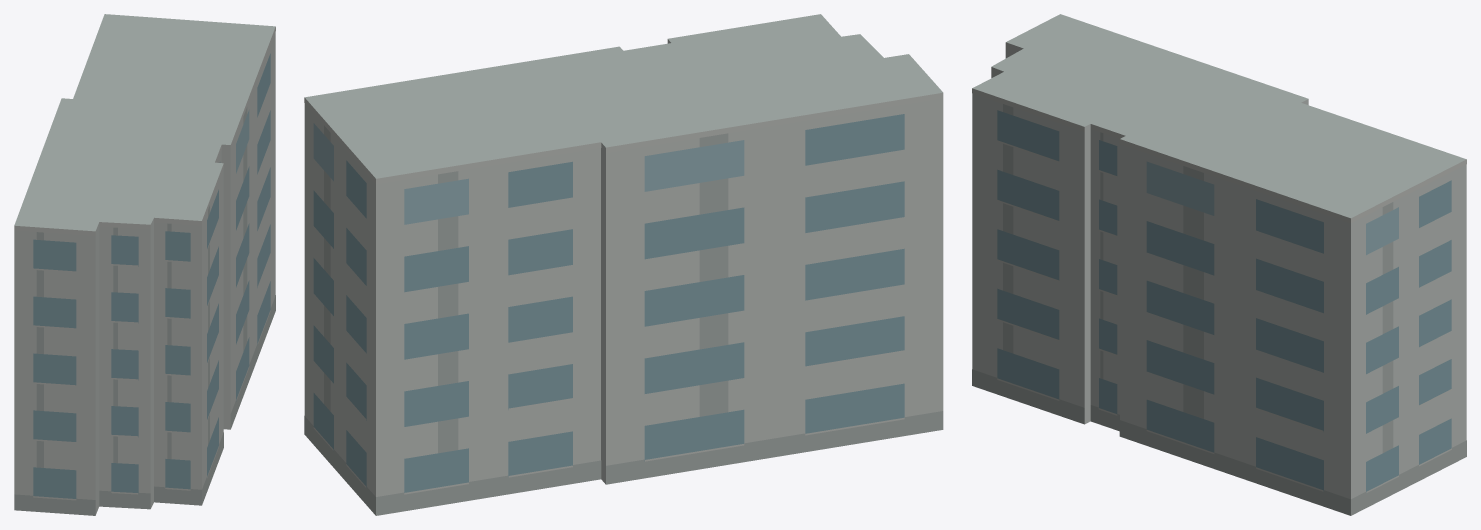
The model's file is survey-upis-32871784.glb.
3 views of the same model, side by side, from view 1: azimuth 30°, elevation 25°; view 2: azimuth 150°, elevation 25°; view 3: azimuth 270°, elevation 25° (orthographic). The views are drawn at different scales.
Parts seen in each view (by area): view 1: survey-upis-32871784.tmp; view 2: survey-upis-32871784.tmp; view 3: survey-upis-32871784.tmp.
Part boxes in pixels (x1=…): survey-upis-32871784.tmp: x1=14, y1=14, x2=275, y2=515; survey-upis-32871784.tmp: x1=304, y1=14, x2=943, y2=515; survey-upis-32871784.tmp: x1=972, y1=14, x2=1466, y2=515.
Size of the model in its own units: 21.36 by 14.5 by 21.85.
